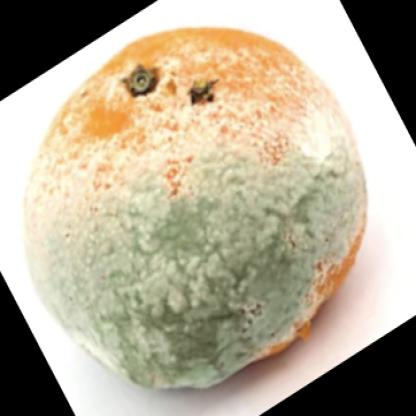rotten: (25, 27, 368, 393)
